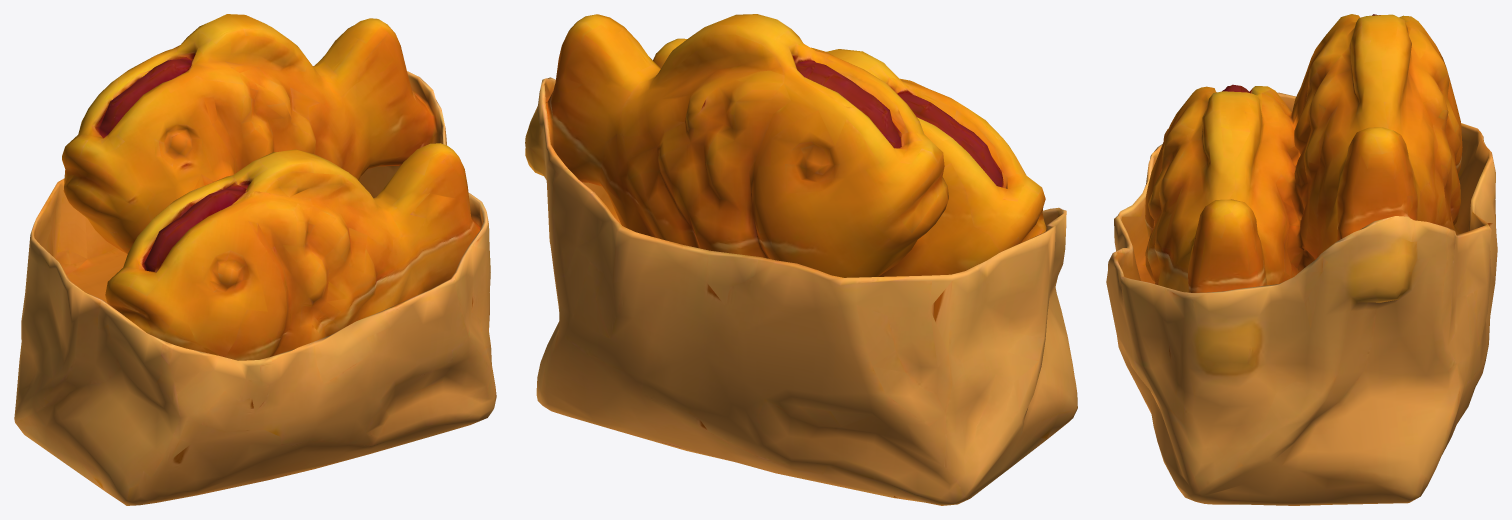
The picture shows the model from 3 angles, left to right: view 1: azimuth 30°, elevation 25°; view 2: azimuth 150°, elevation 25°; view 3: azimuth 270°, elevation 25°; orthographic projection. The views are drawn at different scales.
Visible parts, largest first — view 1: bungeoppang; view 2: bungeoppang; view 3: bungeoppang.
Boxes of the visible parts, x1,y1,x2,y2 form: bungeoppang: [14, 14, 496, 505]; bungeoppang: [525, 14, 1077, 505]; bungeoppang: [1106, 14, 1497, 505].
Size of the model in its own units: 0.1818 by 0.16 by 0.1407.
1 material, 1 textured.
